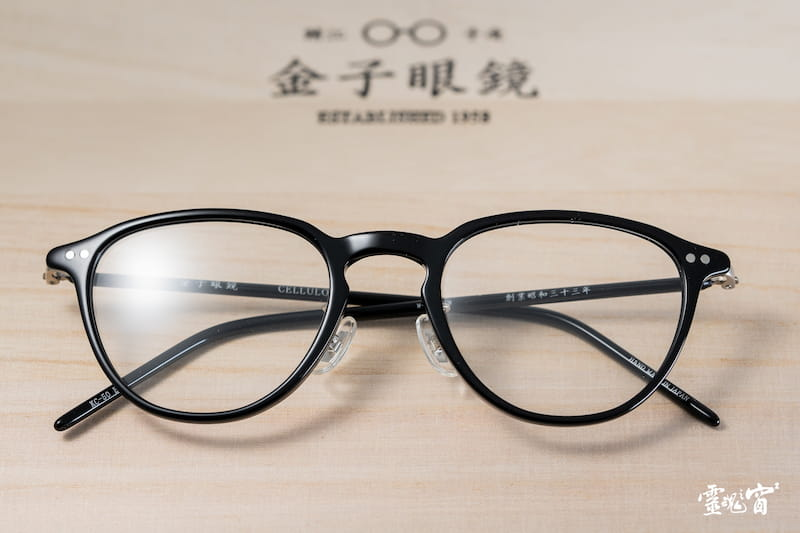glass: (26, 189, 746, 439)
